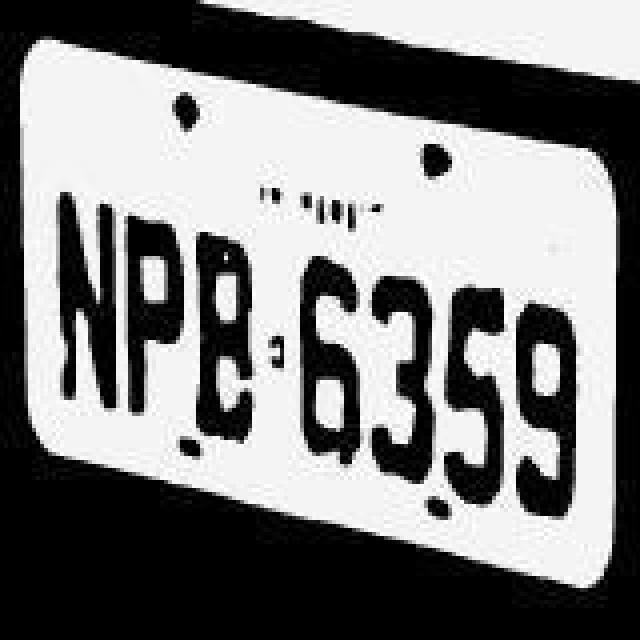3: (364, 254, 436, 490)
5: (440, 274, 512, 510)
6: (290, 250, 366, 486)
9: (508, 282, 580, 518)
B: (190, 214, 266, 442)
N: (72, 286, 144, 562)
P: (118, 178, 186, 438)
